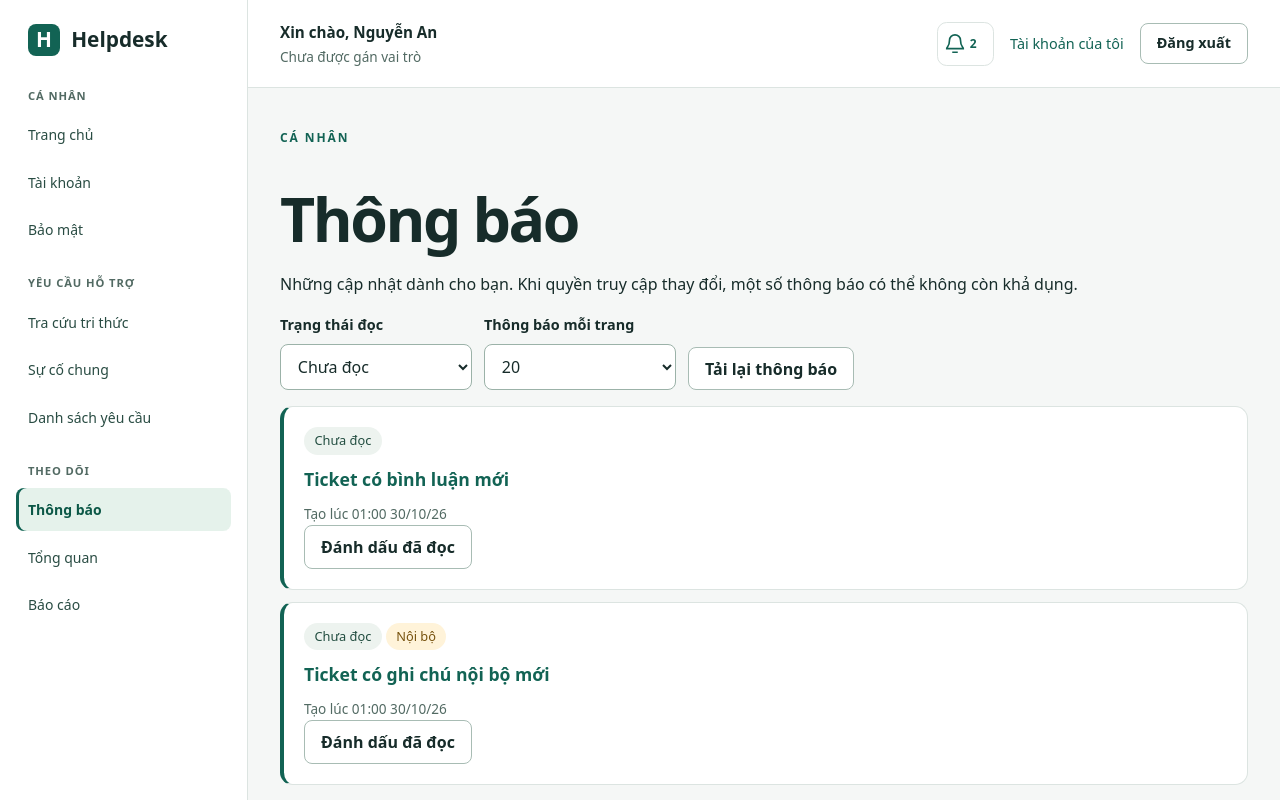
it: persisted notification inbox, count and detail › opens detail with its filtered return link and does not mark read just by viewing
The image size is (1280, 800).
Click the link "Ticket có bình luận mới".
click(407, 479)  # box [304,467,509,491]
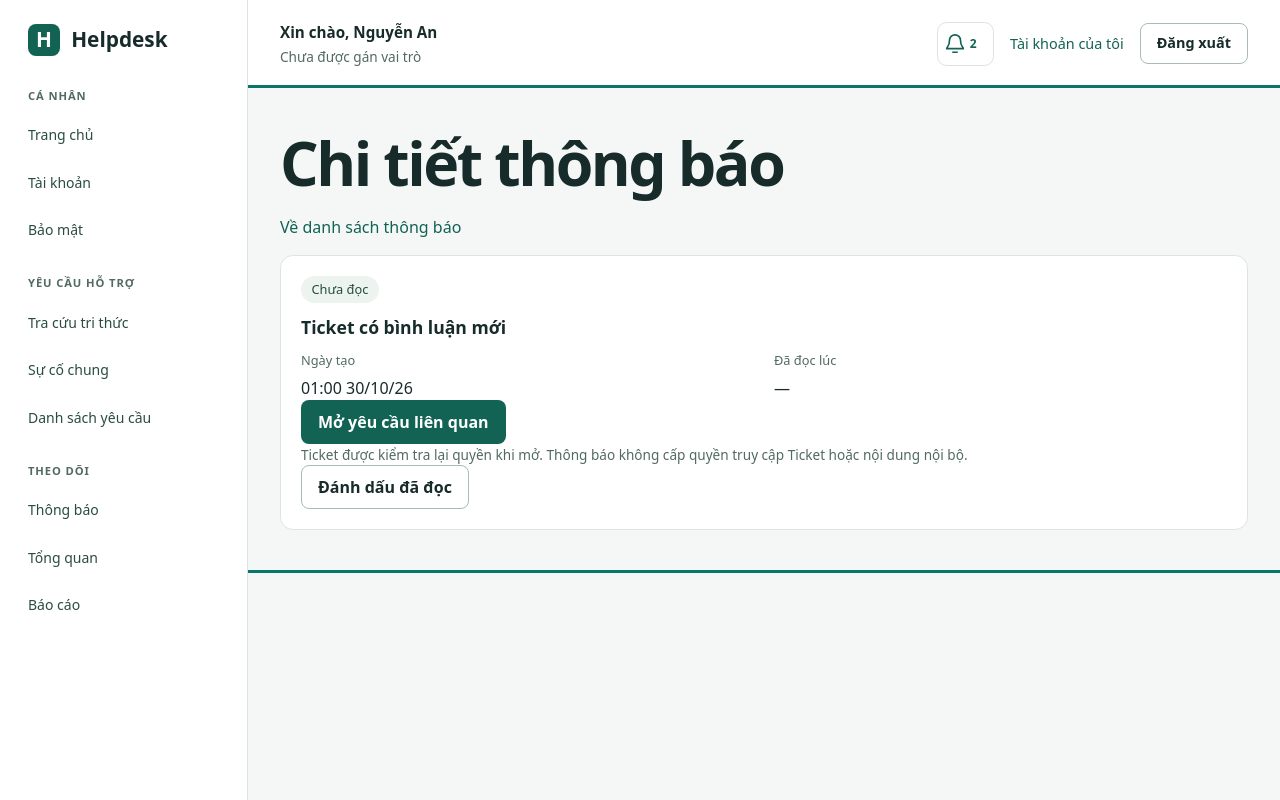
Expected: the heading "Ticket có bình luận mới" is shown, [301,315,506,339]
Click the button "Đánh dấu đã đọc".
click(385, 487)  # box [301,465,469,509]
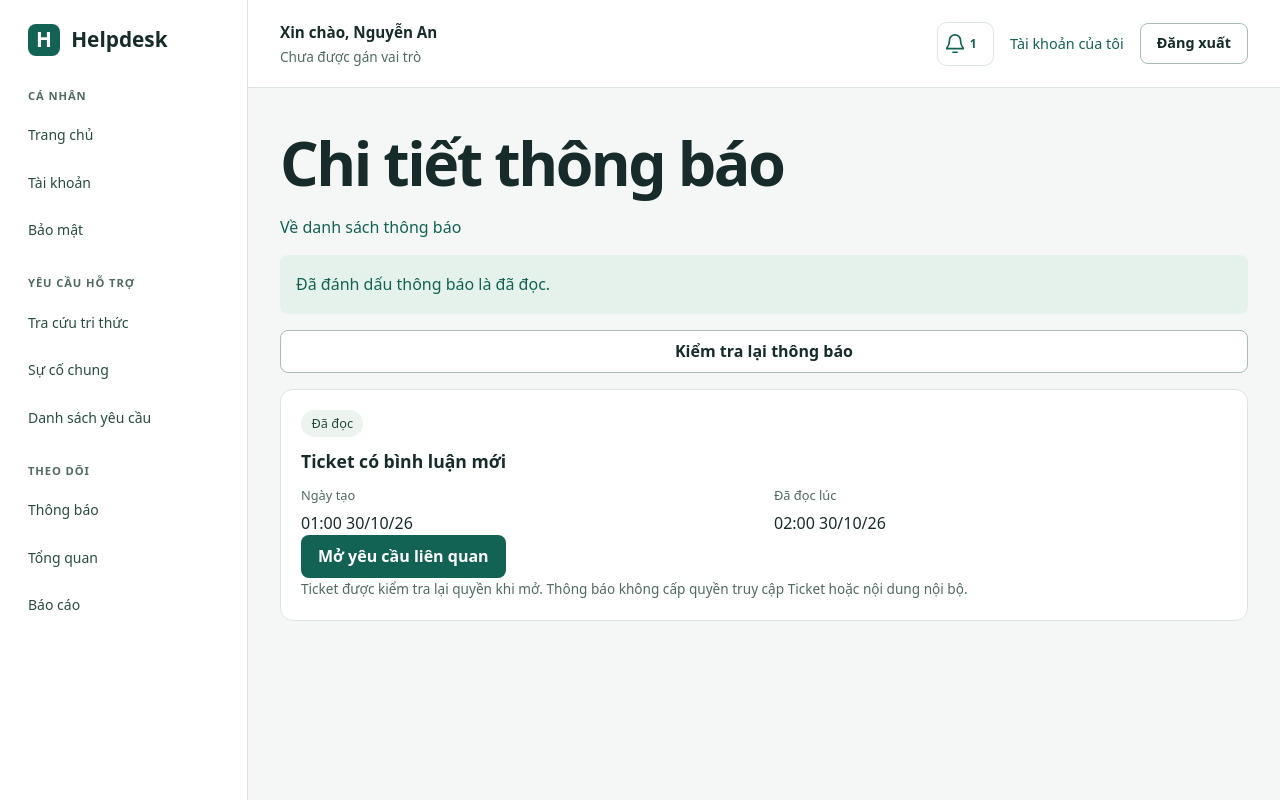
Expected: the text "Đã đánh dấu thông báo là đã đọc." is shown, [280,254,1248,314]
Expected: the button "Đánh dấu đã đọc" is gone
